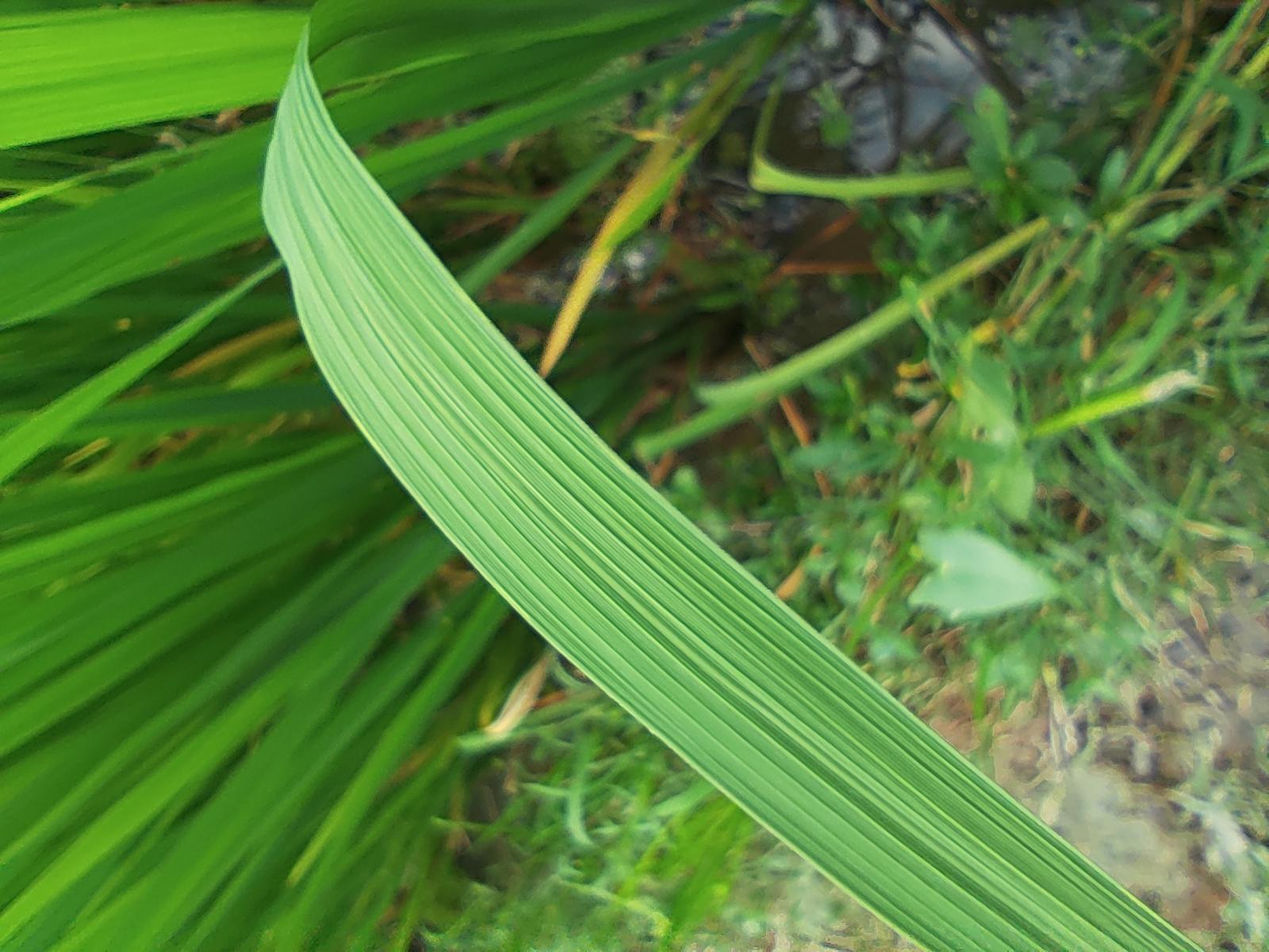Healthy: (0, 198, 1216, 897)
